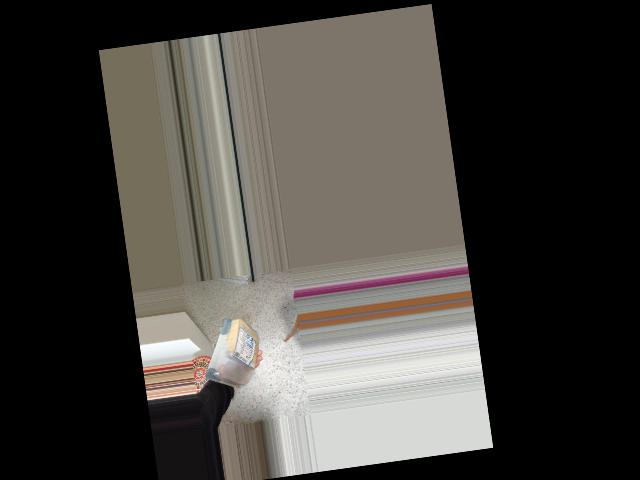cheese: (198, 311, 268, 402)
